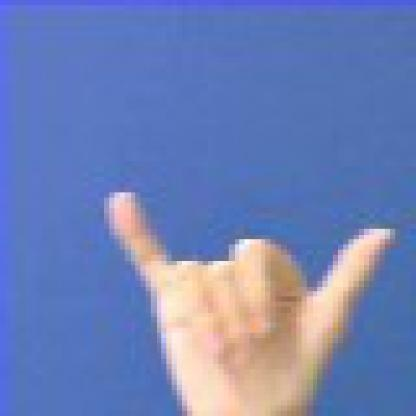six: (83, 135, 411, 411)
